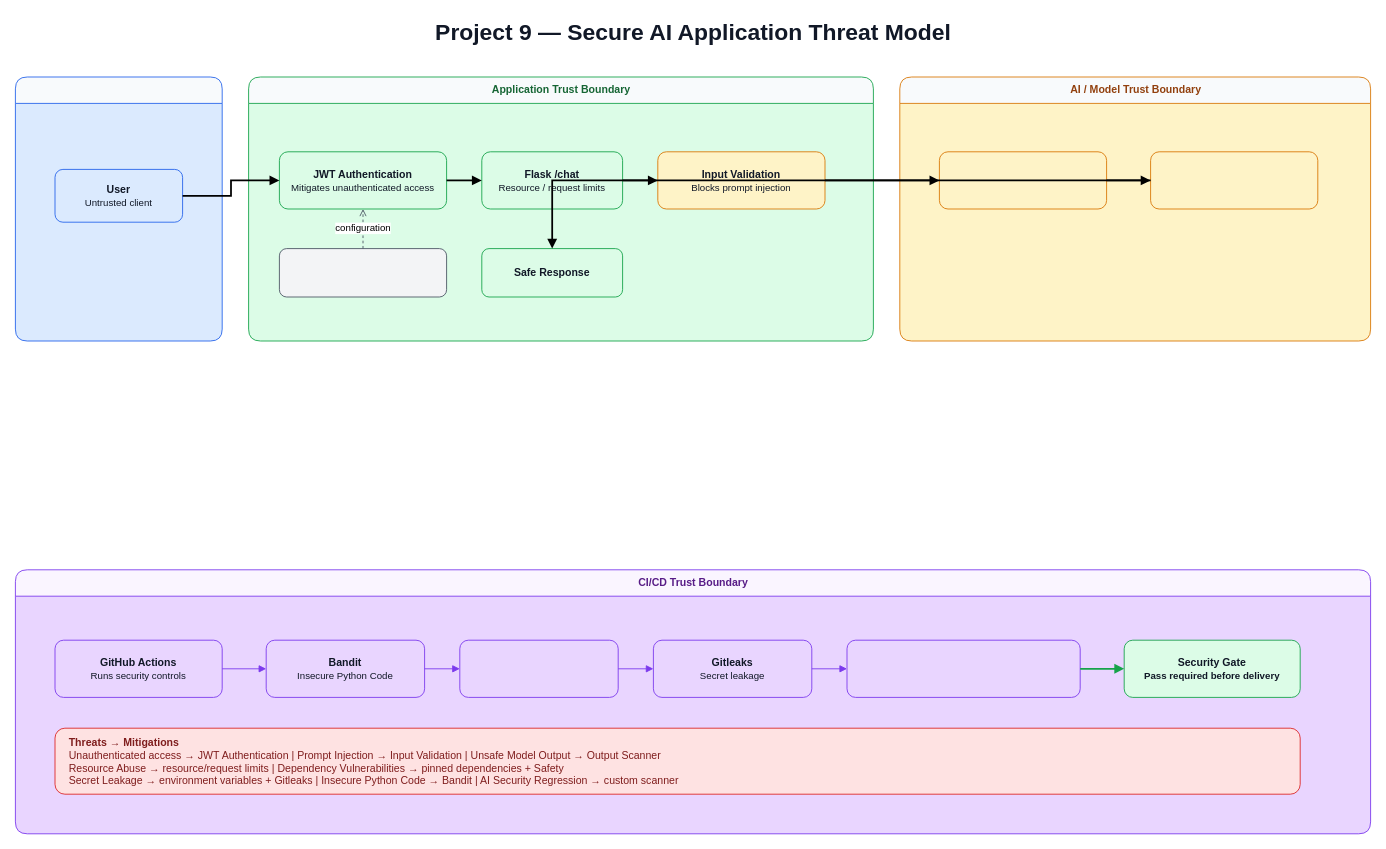
Some shapes in this 1386 by 849 pixel diagram are drawn without their labels. The shapes that lost their labels are listed below. From the top down, each one's box as (x1, y1, x2, y2) in pixels, then its label:
(939, 151, 1107, 209): Ollama / Local LLM Local model endpoint
(1150, 151, 1318, 209): Output Scanner Blocks unsafe model output
(15, 76, 222, 341): Client Trust Boundary
(279, 248, 447, 297): Environment Variables / Secrets JWT secret, Ollama URL, model config
(459, 639, 618, 697): Safety Dependency vulnerabilities
(846, 639, 1080, 697): Custom Prompt-Injection Scanner AI security regression
